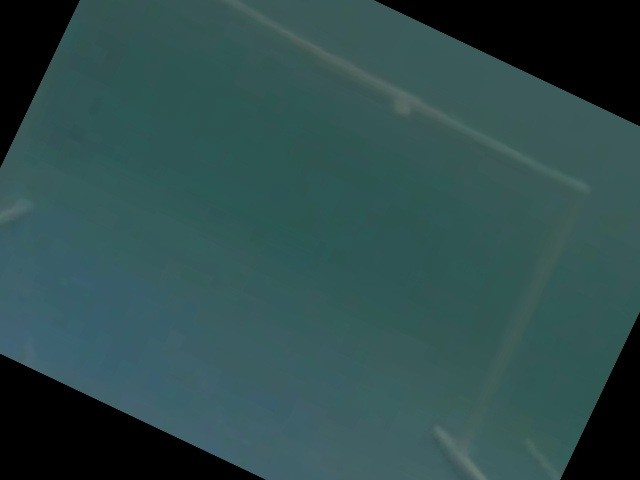gate: (5, 10, 627, 477)
